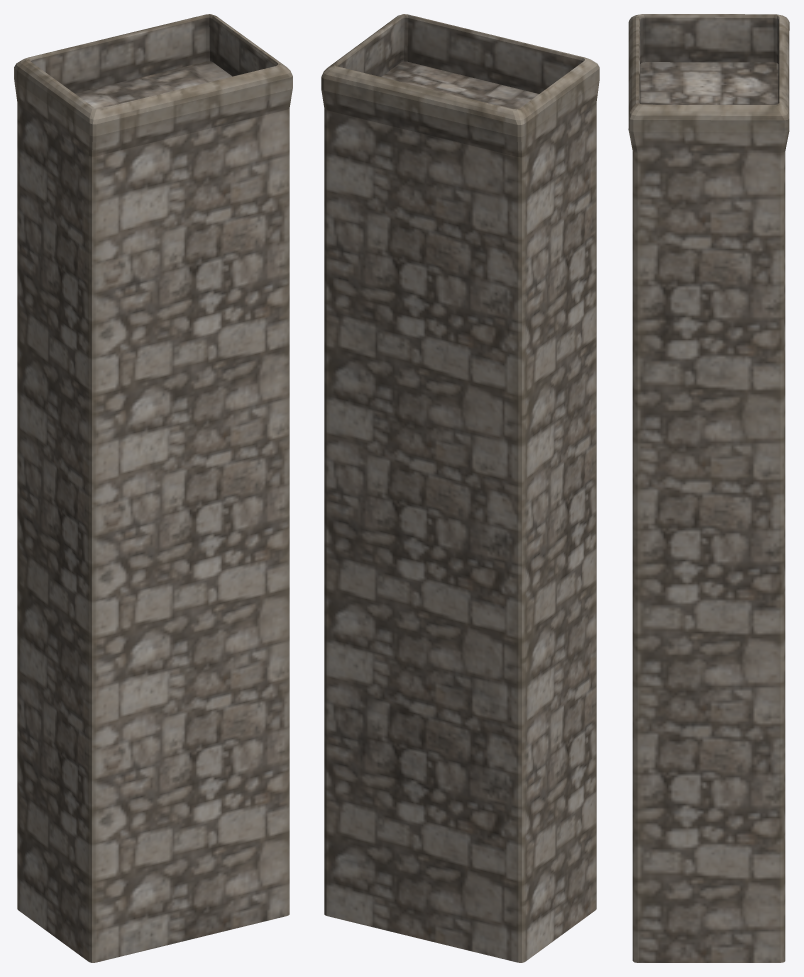
File: BW_Blacksmith01_Chimney.fbx
3 views of the same model, side by side, from view 1: azimuth 30°, elevation 25°; view 2: azimuth 150°, elevation 25°; view 3: azimuth 270°, elevation 25° (orthographic).
Parts seen in each view (by area): view 1: BW_Blacksmith01_Chimney; view 2: BW_Blacksmith01_Chimney; view 3: BW_Blacksmith01_Chimney.
Part boxes in pixels (x1,y1,x2,y2): BW_Blacksmith01_Chimney: (14, 14, 292, 962); BW_Blacksmith01_Chimney: (321, 14, 599, 962); BW_Blacksmith01_Chimney: (628, 14, 789, 962).
Size of the model in its own units: 0.8947 by 3.59 by 0.6125.
